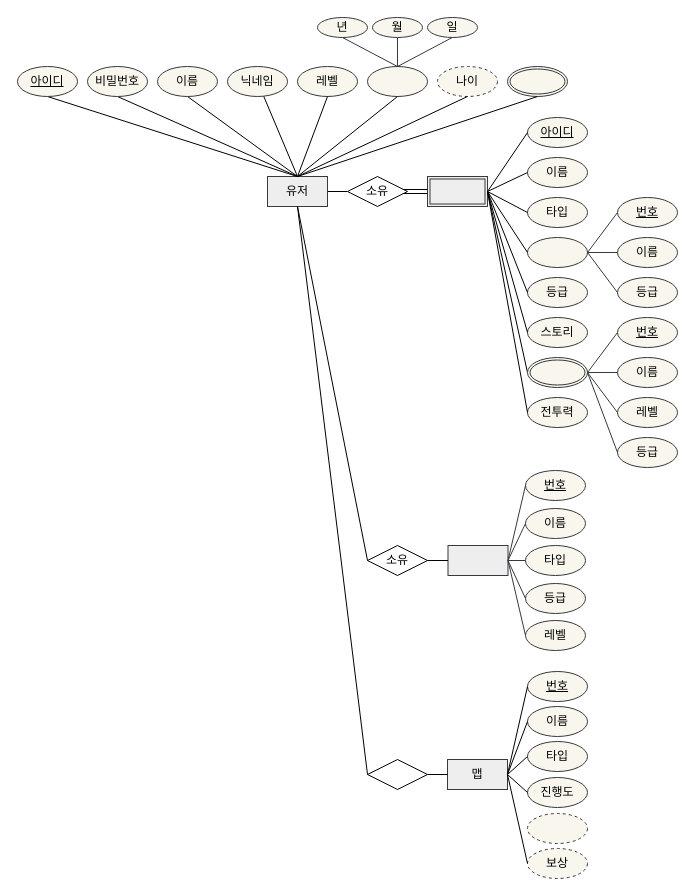
This 695x896 diagram has some shape labels left out. Here are the shapes that lost their labels. From the top down, the centre of each, then its label:
point 397,81: 생년월일
point 537,81: 결제수단
point 457,191: 쿠키
point 557,252: 스킨
point 557,372: 토핑
point 477,560: 보물
point 397,774: 수행
point 557,828: 잠금
